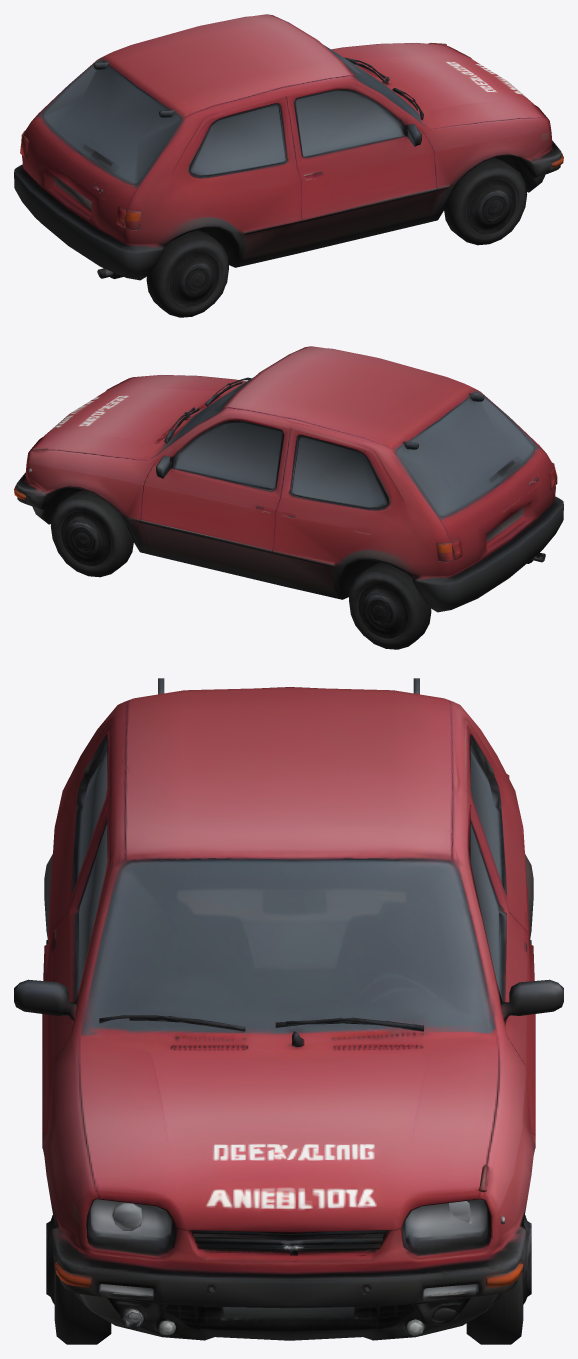
Rendered from damaged_repair_car_with_writing.glb.
The picture shows the model from 3 angles, top to bottom: view 1: azimuth 30°, elevation 25°; view 2: azimuth 150°, elevation 25°; view 3: azimuth 270°, elevation 25°; orthographic projection. The views are drawn at different scales.
Visible parts, largest first — view 1: tripo_node_e0ba38e5-cbad-40e5-aa68-c150dd8bfddb; view 2: tripo_node_e0ba38e5-cbad-40e5-aa68-c150dd8bfddb; view 3: tripo_node_e0ba38e5-cbad-40e5-aa68-c150dd8bfddb.
Part boxes in pixels (left/top/right/bottom): tripo_node_e0ba38e5-cbad-40e5-aa68-c150dd8bfddb: left=14, top=14, right=563, bottom=317; tripo_node_e0ba38e5-cbad-40e5-aa68-c150dd8bfddb: left=14, top=346, right=563, bottom=649; tripo_node_e0ba38e5-cbad-40e5-aa68-c150dd8bfddb: left=14, top=678, right=563, bottom=1344.
Bounding box in the file's own units: 0.998 × 0.4082 × 0.5293.
Materials: 1 (1 with a texture image).
